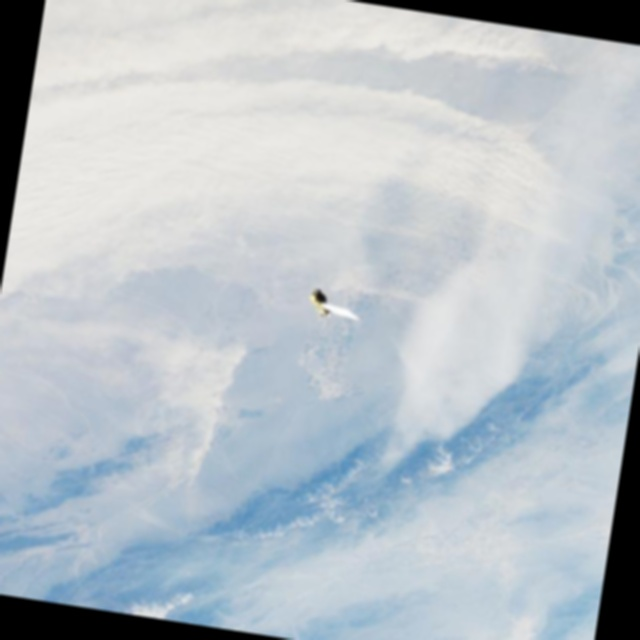satellite: (302, 283, 365, 333)
